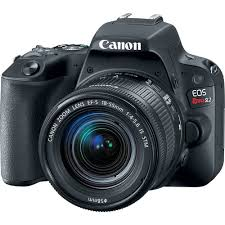camera: (1, 16, 222, 211)
